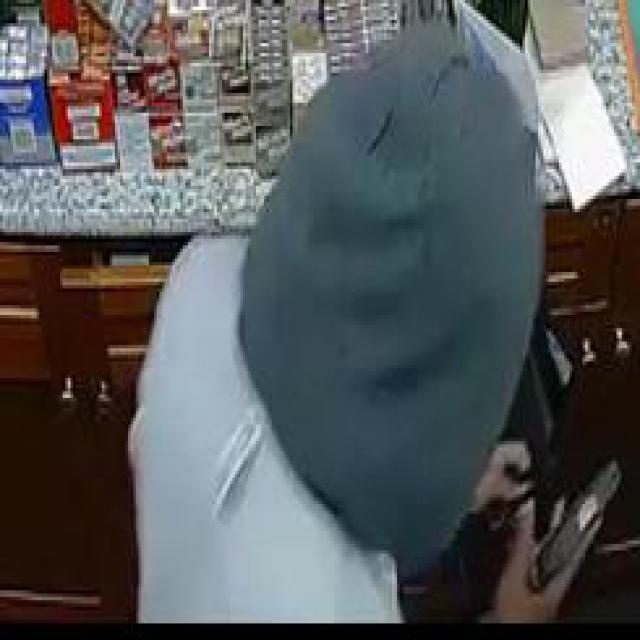Gun: (522, 441, 622, 590)
